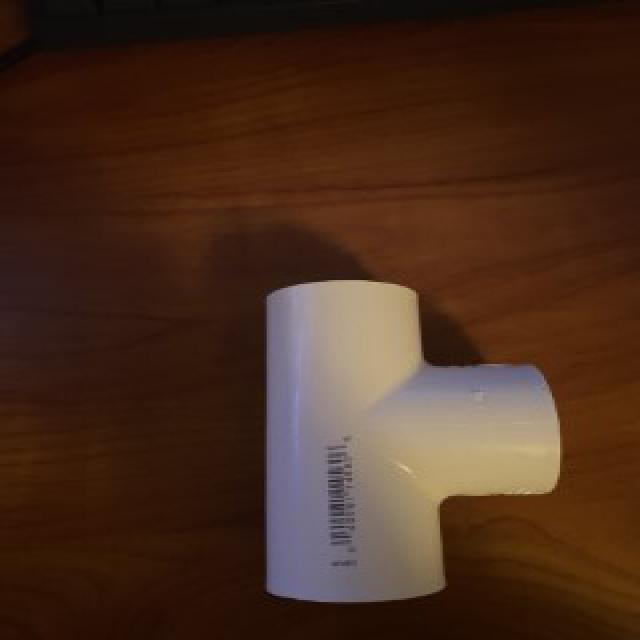T Joint: (264, 280, 563, 605)
